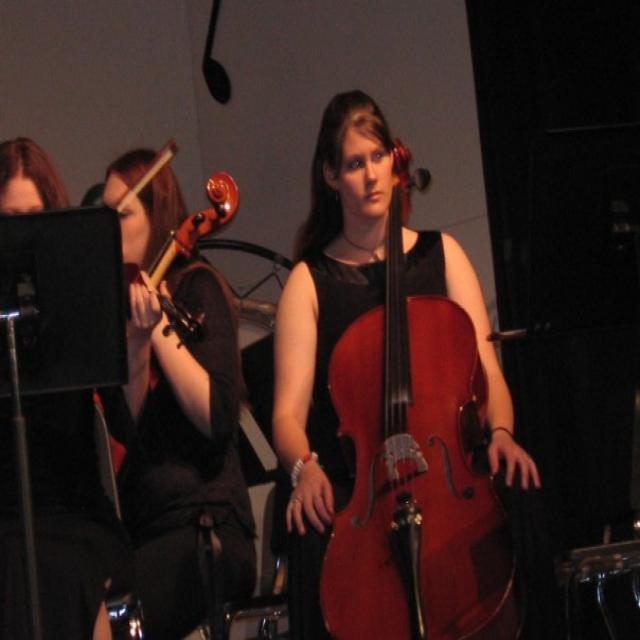cello: (312, 138, 524, 640), (151, 176, 258, 284)
violin: (120, 260, 214, 354)
